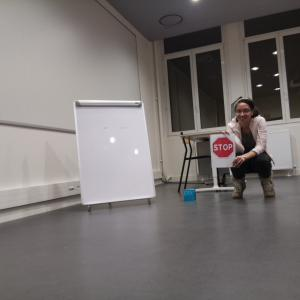stop: (212, 137, 235, 157)
